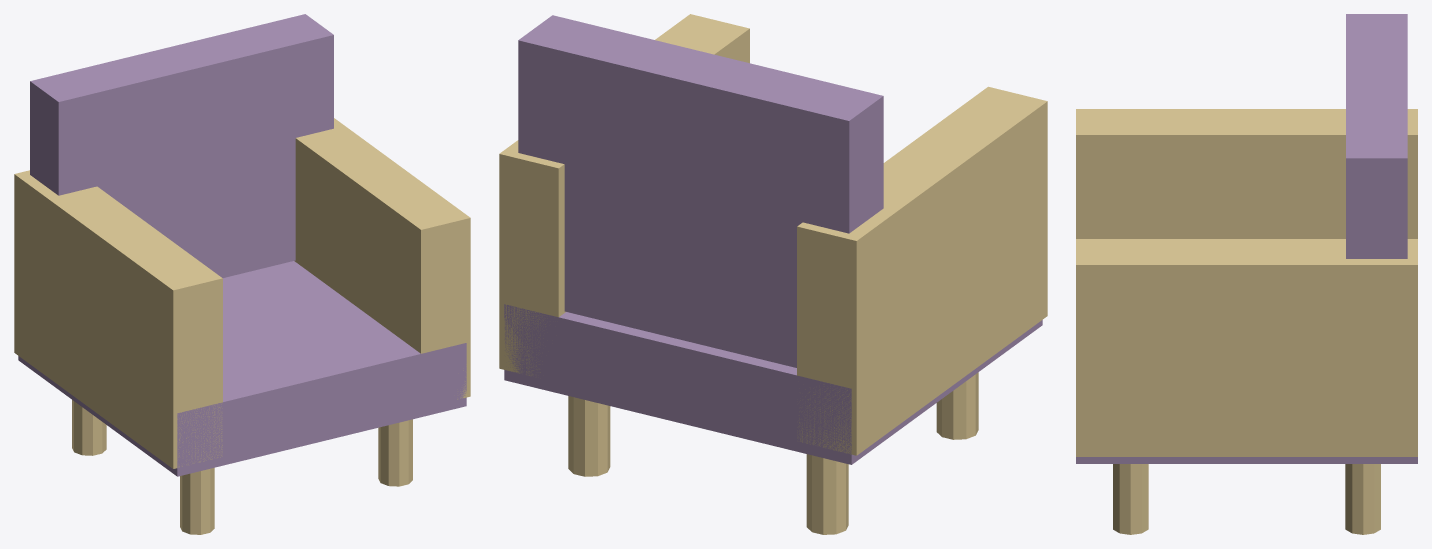
File: luxury_lounge_chair.glb
The picture shows the model from 3 angles, left to right: view 1: azimuth 30°, elevation 25°; view 2: azimuth 150°, elevation 25°; view 3: azimuth 270°, elevation 25°; orthographic projection. The views are drawn at different scales.
Visible parts, largest first — view 1: part_01, part_02, part_00, part_03, part_07, part_05, part_04; view 2: part_01, part_02, part_00, part_03, part_04, part_06, part_05; view 3: part_03, part_02, part_01, part_06, part_07, part_00.
Boxes of the visible parts, bbox=[...] form: part_01: bbox=[30, 14, 333, 277]; part_02: bbox=[14, 170, 222, 468]; part_00: bbox=[18, 261, 466, 476]; part_03: bbox=[294, 118, 470, 399]; part_07: bbox=[378, 419, 412, 486]; part_05: bbox=[180, 467, 214, 534]; part_04: bbox=[72, 400, 106, 455]; part_01: bbox=[518, 15, 883, 367]; part_02: bbox=[797, 86, 1047, 455]; part_00: bbox=[504, 304, 1042, 464]; part_03: bbox=[499, 14, 749, 375]; part_04: bbox=[806, 454, 848, 534]; part_06: bbox=[568, 396, 610, 476]; part_05: bbox=[936, 372, 978, 439]; part_03: bbox=[1076, 239, 1417, 456]; part_02: bbox=[1076, 109, 1417, 238]; part_01: bbox=[1346, 14, 1407, 258]; part_06: bbox=[1345, 464, 1380, 534]; part_07: bbox=[1113, 464, 1148, 534]; part_00: bbox=[1076, 457, 1417, 463].
Size of the model in its own units: 1.08 by 1.25 by 1.
